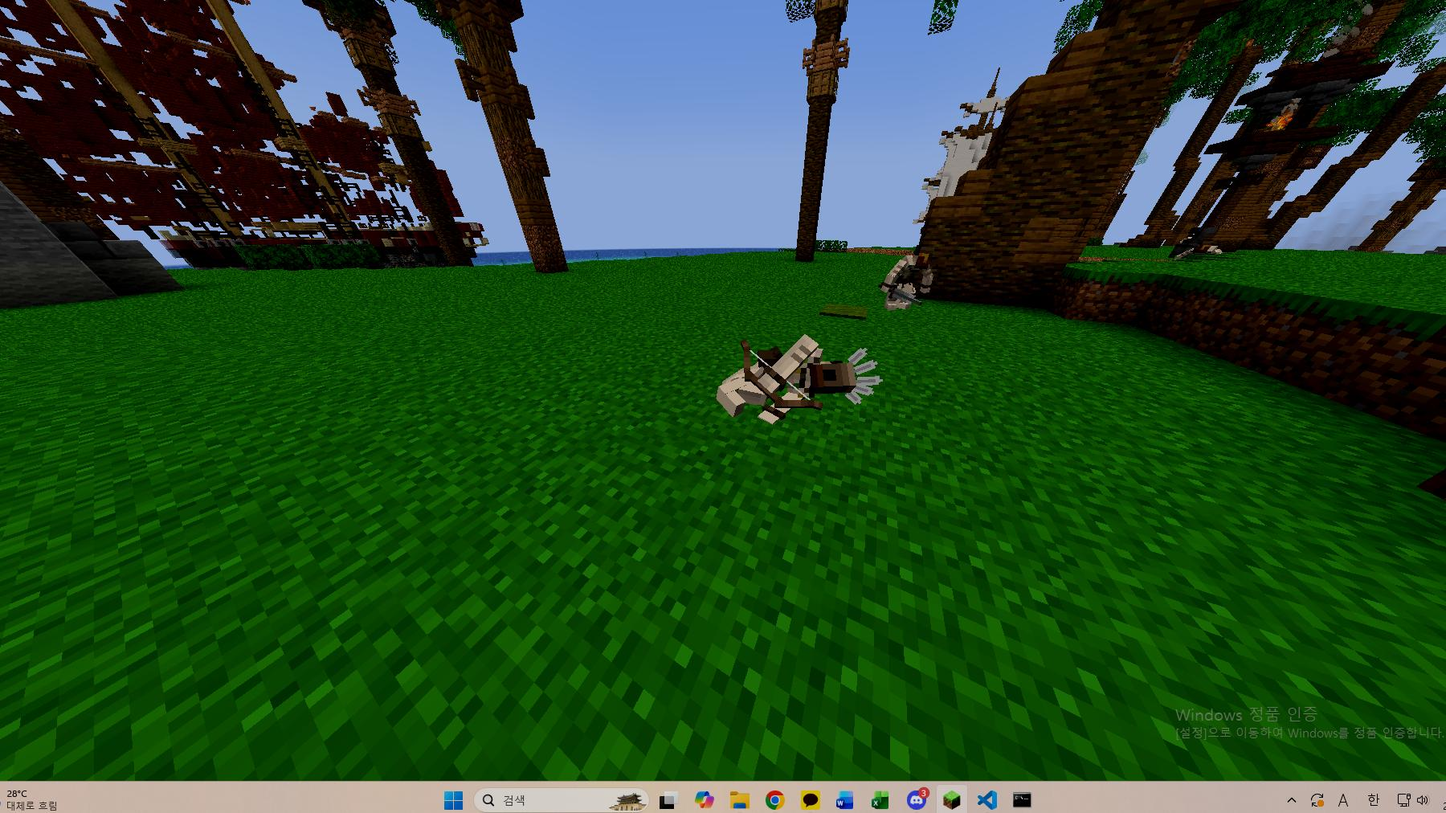bow_indian: (695, 301, 931, 437)
